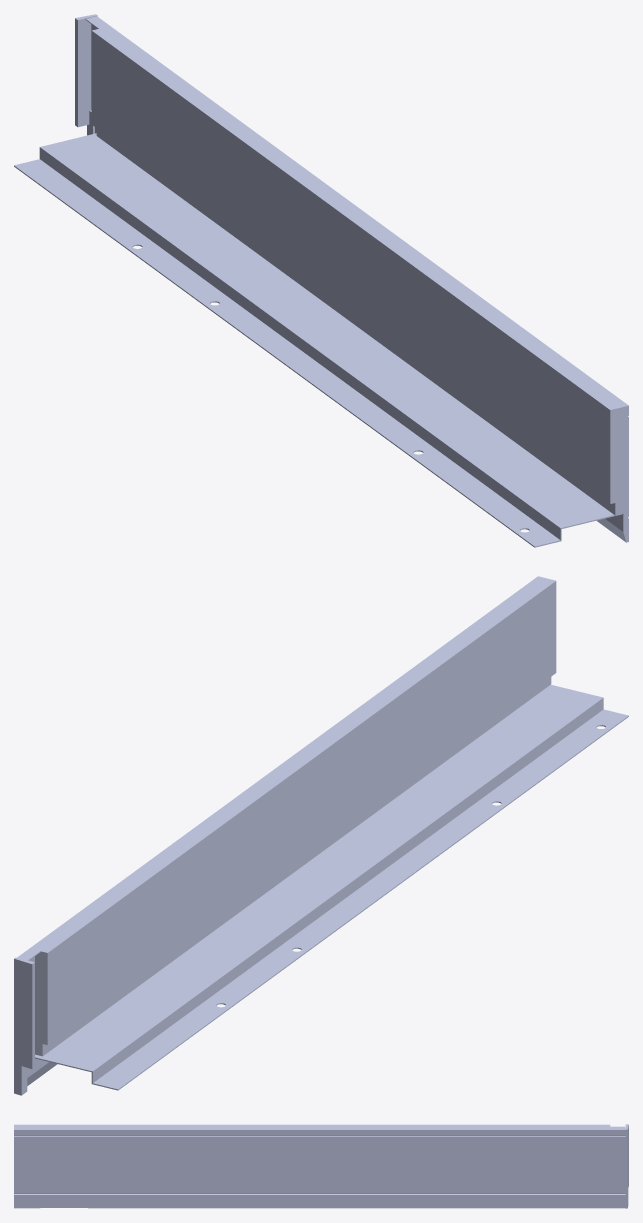
Rendered from lg-kava-M650-m.glb.
The picture shows the model from 3 angles, top to bottom: view 1: azimuth 30°, elevation 25°; view 2: azimuth 150°, elevation 25°; view 3: azimuth 270°, elevation 25°; orthographic projection. The views are drawn at different scales.
Visible parts, largest first — view 1: 42066042; view 2: 42066042; view 3: 42066042.
Part boxes in pixels (<box>): 42066042: <box>14,14,628,547</box>; 42066042: <box>14,576,628,1095</box>; 42066042: <box>14,1124,628,1208</box>.
Size of the model in its own units: 0.0653 by 0.0912 by 0.6435.
